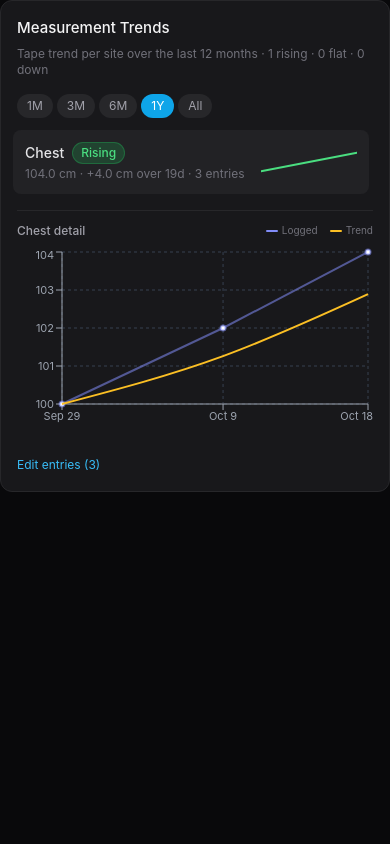
it: MeasurementTrendCard entry editor › edits a historical entry in place and refetches
Click the button with test id "measurement-entries-toggle" at (59, 464), box [17, 456, 100, 472]
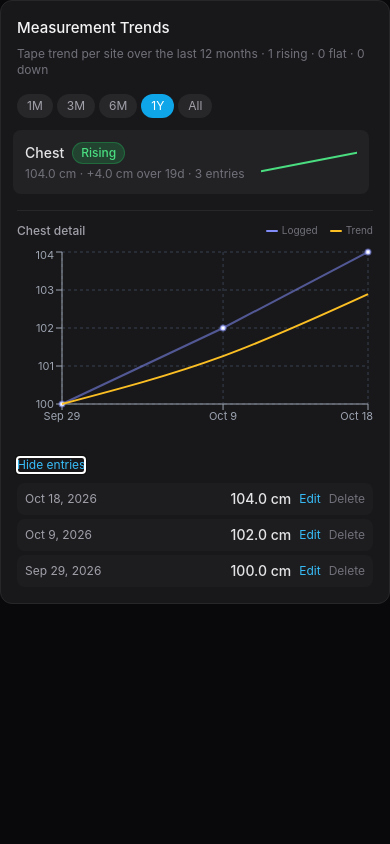
Click the button "Edit" in the row of "102.0" at (310, 534), box [299, 526, 321, 542]
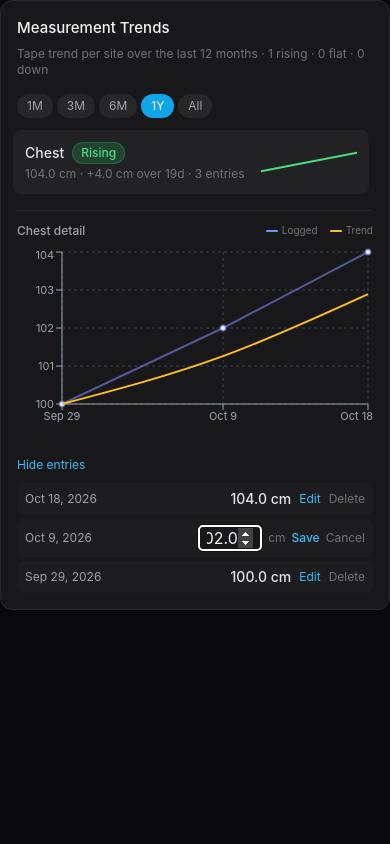
Replace the text in the number field with test id "measurement-entry-input" with "95.5" at (230, 538), box [198, 524, 262, 550]
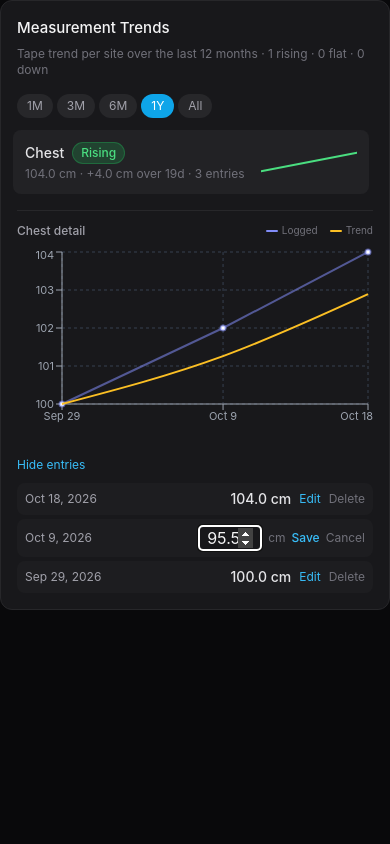
Click the button with test id "measurement-entry-save" at (306, 538), box [292, 530, 320, 546]
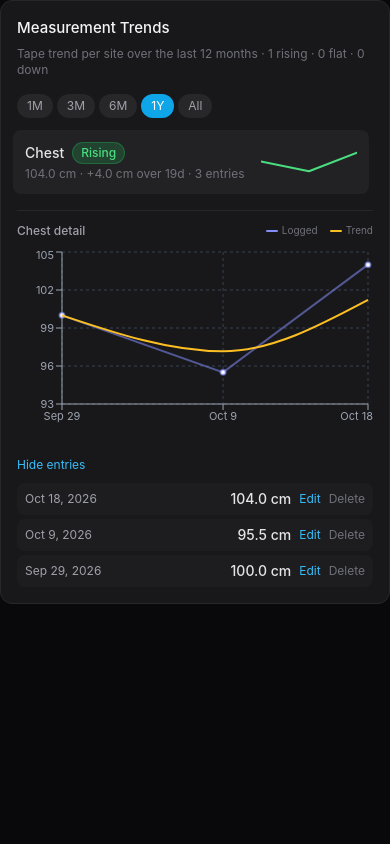
Check: the text "95.5 cm" is shown, box [238, 524, 291, 544]
